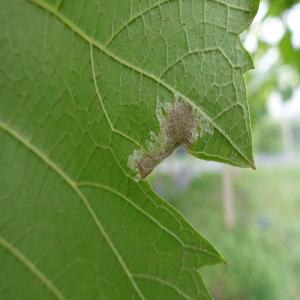Folha: (0, 0, 260, 299)
Fungo: (126, 91, 214, 179), (157, 93, 198, 149), (194, 110, 214, 138)
